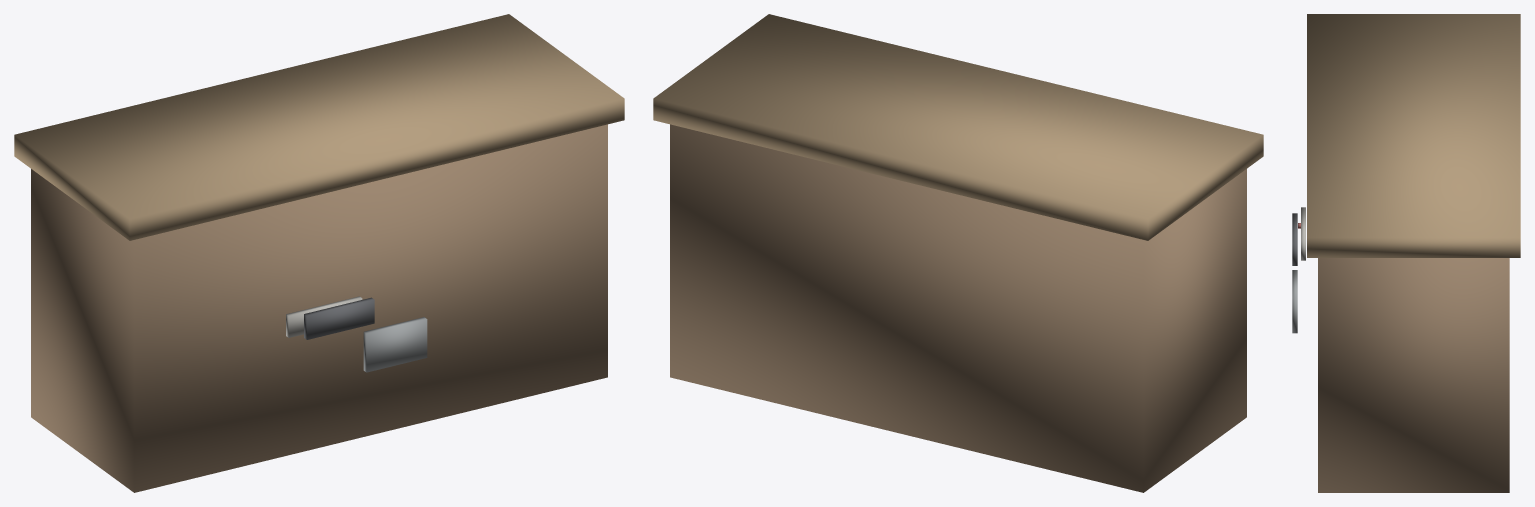
Rendered from pawn_counter__weathered.glb.
3 views of the same model, side by side, from view 1: azimuth 30°, elevation 25°; view 2: azimuth 150°, elevation 25°; view 3: azimuth 270°, elevation 25° (orthographic). The views are drawn at different scales.
Parts seen in each view (by area): view 1: world; view 2: world; view 3: world.
Part boxes in pixels (<box>): world: <box>14,14,624,492</box>; world: <box>653,14,1263,492</box>; world: <box>1292,14,1520,492</box>.
Bounding box in the file's own units: 1.88 × 1.02 × 0.812.
